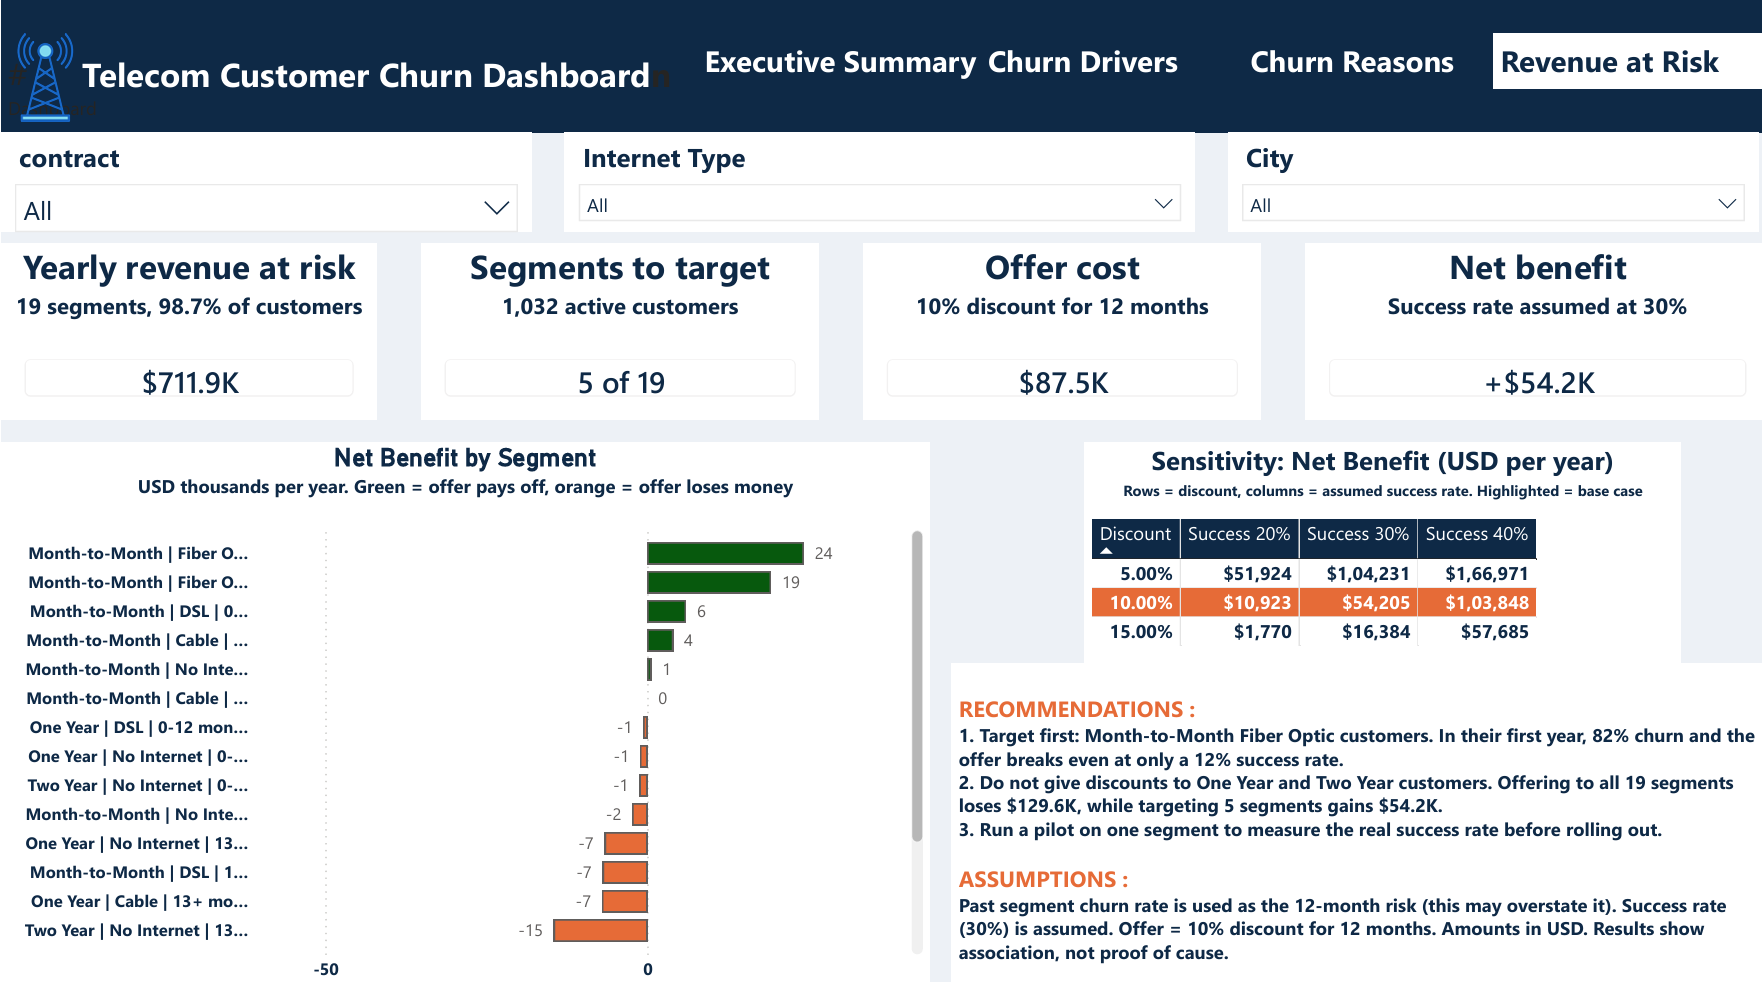

Layout of this report page (visuals, bound fields, positions):
{"tool":"powerbi","page":{"name":"Revenue Risk","canvas":[1280,720],"ordinal":3},"visuals":[{"type":"shape","box":[0,0,1280,96],"z":0},{"type":"textbox","box":[0,32,496,64],"z":1000},{"type":"textbox","box":[504,24,216,48],"z":2000},{"type":"textbox","box":[709.3,24,200,40],"z":3000},{"type":"textbox","box":[898.7,24,200,40],"z":4000},{"type":"textbox","box":[1080,24,200,40],"z":5000},{"type":"slicer","title":"Contract","fields":{"Values":["Customers.contract"]},"box":[0,96,384,72],"z":6000},{"type":"slicer","fields":{"Values":["Customers.internet_type"]},"box":[408,96,456,72],"z":7000},{"type":"slicer","fields":{"Values":["Customers.city"]},"box":[888,96,384,72],"z":8000},{"type":"cardVisual","title":"Yearly revenue at risk","fields":{"Data":["Customers.Revenue at Risk Text"]},"box":[0,176,272,128],"z":9000},{"type":"cardVisual","title":"Segments to target","fields":{"Data":["Customers.Segments Text"]},"box":[304,176,288,128],"z":10000},{"type":"cardVisual","title":"Offer cost","fields":{"Data":["Customers.Offer Cost Text"]},"box":[624,176,288,128],"z":11000},{"type":"cardVisual","title":"Net benefit","fields":{"Data":["Customers.Net Benefit Text"]},"box":[944,176,336,128],"z":12000},{"type":"image","box":[0,24,64,64],"z":13000},{"type":"clusteredBarChart","title":"Net Benefit by Segment","fields":{"Category":["Segment_simulation.segment"],"Y":["Customers.Net Benefit K"]},"box":[0,320,672,400],"z":13001},{"type":"tableEx","title":"Sensitivity: Net Benefit (USD per year)","fields":{"Values":["sensitivity.Discount","sensitivity.Success 20%","sensitivity.Success 30%","sensitivity.Success 40%"]},"box":[784,320,432,160],"z":13002},{"type":"textbox","box":[688,480,592,240],"z":13003}]}

Visuals, with their boxes in screenshot pixels (x1, y1, x2, y2), scaled from the page's 1280x720 canvas onto the 1762x982 screenshot:
shape: <box>0,0,1761,131</box>
textbox: <box>0,44,683,131</box>
textbox: <box>694,33,991,98</box>
textbox: <box>976,33,1252,87</box>
textbox: <box>1237,33,1512,87</box>
textbox: <box>1487,33,1761,87</box>
"Contract" slicer: <box>0,131,529,229</box>
slicer - Customers.internet_type: <box>562,131,1189,229</box>
slicer - Customers.city: <box>1222,131,1751,229</box>
"Yearly revenue at risk" cardVisual: <box>0,240,374,415</box>
"Segments to target" cardVisual: <box>418,240,815,415</box>
"Offer cost" cardVisual: <box>859,240,1255,415</box>
"Net benefit" cardVisual: <box>1299,240,1761,415</box>
image: <box>0,33,88,120</box>
"Net Benefit by Segment" clusteredBarChart: <box>0,436,925,981</box>
"Sensitivity: Net Benefit (USD per year)" tableEx: <box>1079,436,1674,655</box>
textbox: <box>947,655,1761,981</box>
